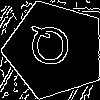Q: (30, 25, 71, 74)
